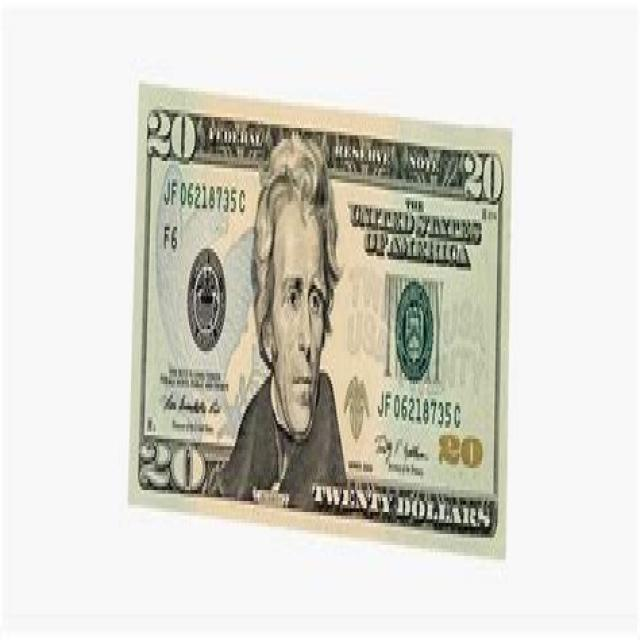Twenty: (127, 78, 512, 566)
